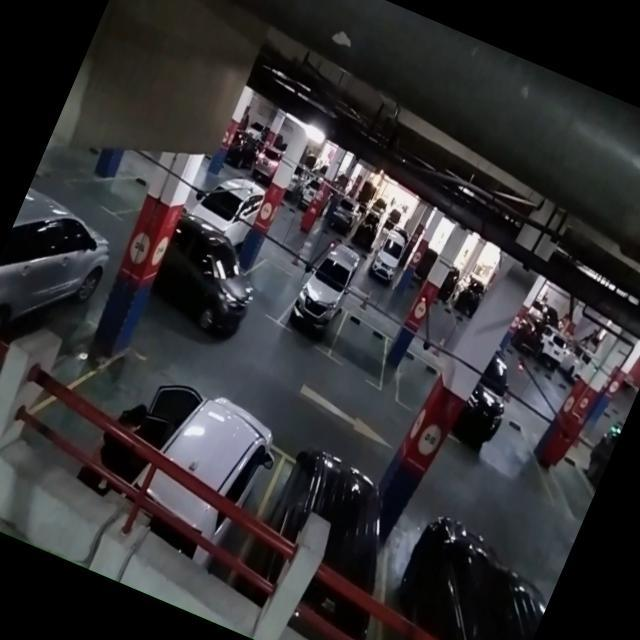empty: (228, 250, 309, 328), (322, 308, 400, 388), (384, 346, 446, 416)
occupied: (146, 378, 298, 522), (278, 254, 362, 356)
